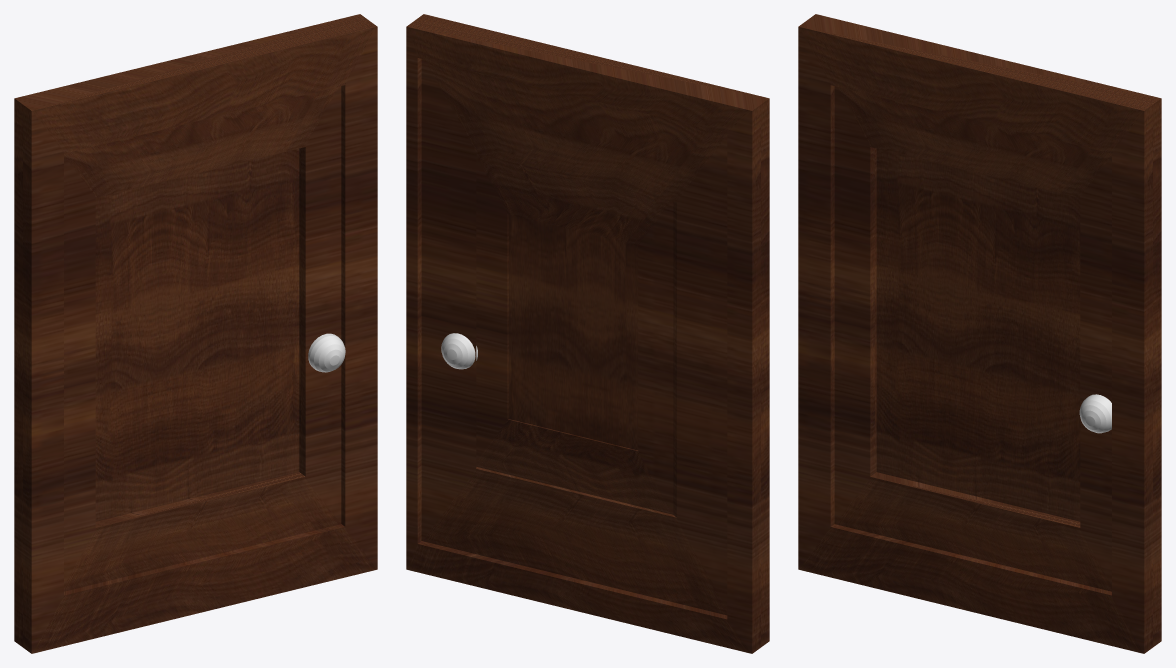
Rendered from Door.fbx.
3 renders of one model, left to right at view 1: azimuth 30°, elevation 25°; view 2: azimuth 150°, elevation 25°; view 3: azimuth 330°, elevation 25°, orthographic.
Visible parts, largest first — view 1: pCube192, pSphere8; view 2: pCube192, pSphere9; view 3: pCube192, pSphere8.
Part boxes in pixels (left/top/right/bottom): pCube192: left=14, top=14, right=377, bottom=653; pSphere8: left=308, top=333, right=345, bottom=372; pCube192: left=406, top=14, right=769, bottom=653; pSphere9: left=441, top=333, right=477, bottom=369; pCube192: left=798, top=14, right=1161, bottom=653; pSphere8: left=1079, top=394, right=1111, bottom=433.
Size of the model in its own units: 21.08 by 31.63 by 2.78.
